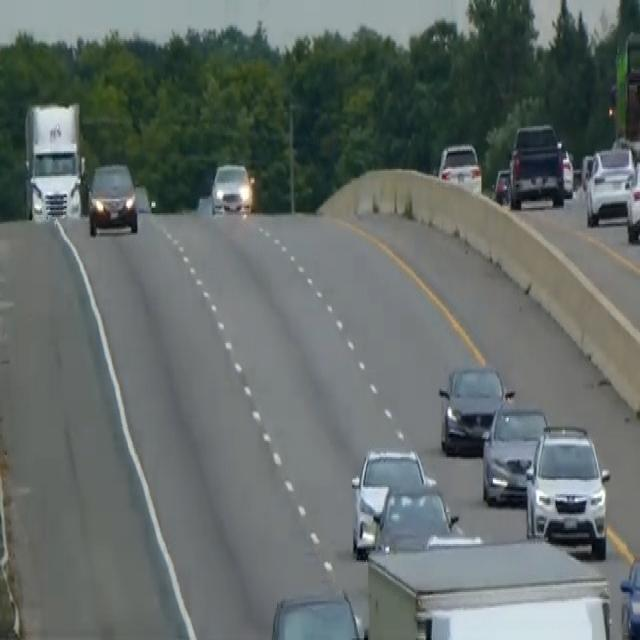car: (524, 422, 610, 558), (350, 444, 429, 556), (481, 398, 549, 505), (437, 361, 511, 455), (371, 482, 460, 553), (268, 585, 363, 638), (85, 156, 140, 238), (584, 144, 636, 226), (437, 140, 482, 194), (210, 160, 252, 215), (619, 553, 639, 638), (624, 154, 639, 243), (492, 166, 511, 207)
jeep: (506, 119, 568, 210)
lorry: (22, 98, 88, 222)
